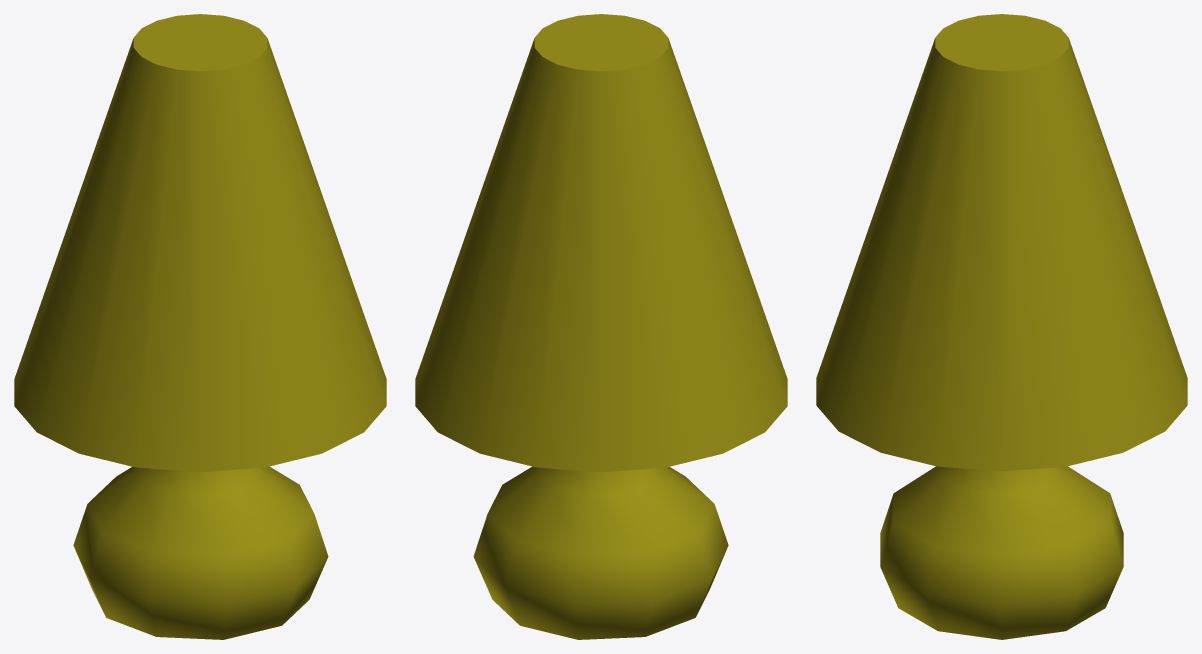
The model's file is TableLamp.FBX.
The picture shows the model from 3 angles, left to right: view 1: azimuth 30°, elevation 25°; view 2: azimuth 150°, elevation 25°; view 3: azimuth 270°, elevation 25°; orthographic projection.
Visible parts, largest first — view 1: TableLamp; view 2: TableLamp; view 3: TableLamp.
Boxes of the visible parts, left/top/right/bottom form: TableLamp: left=14, top=14, right=386, bottom=639; TableLamp: left=415, top=14, right=787, bottom=639; TableLamp: left=816, top=14, right=1187, bottom=639.
Size of the model in its own units: 58.89 by 99.88 by 57.99.
